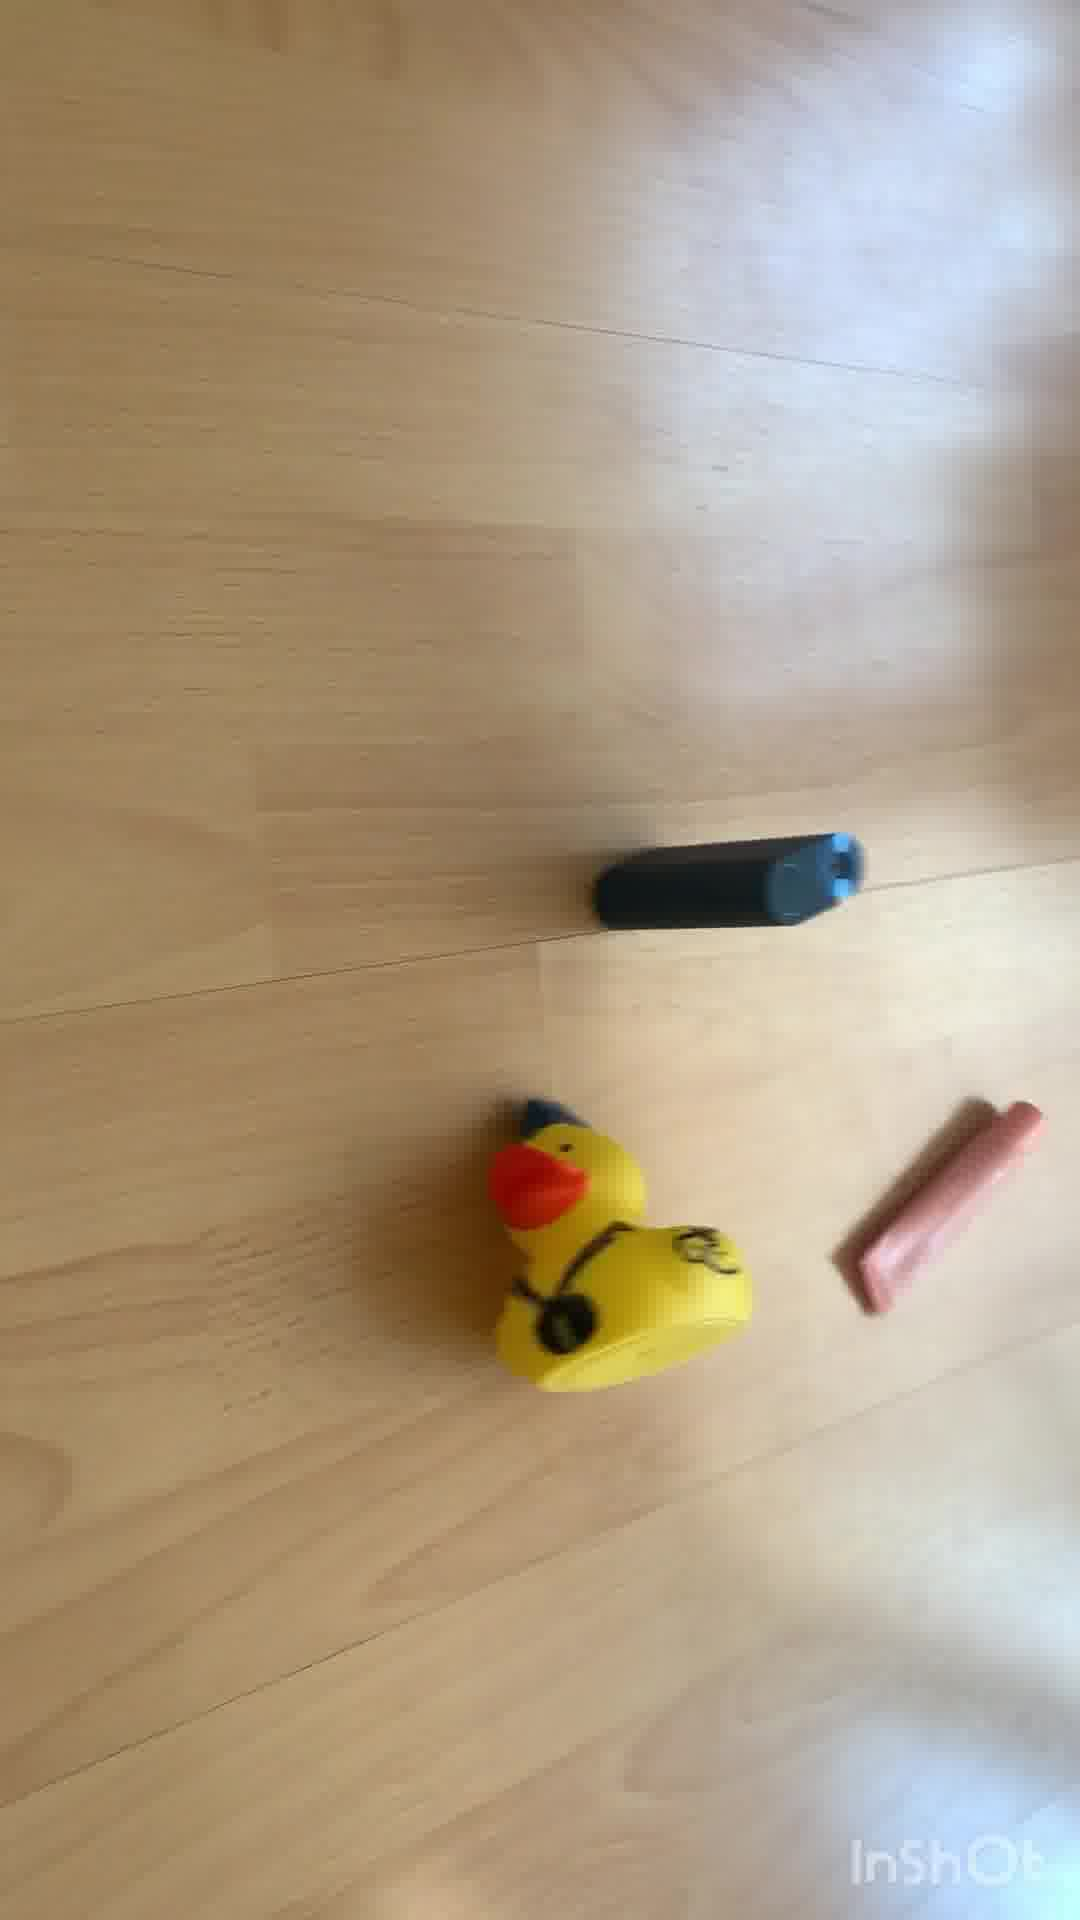duck: (491, 1098, 760, 1398)
glo: (589, 822, 874, 945)
lip balm: (847, 1087, 1054, 1331)
